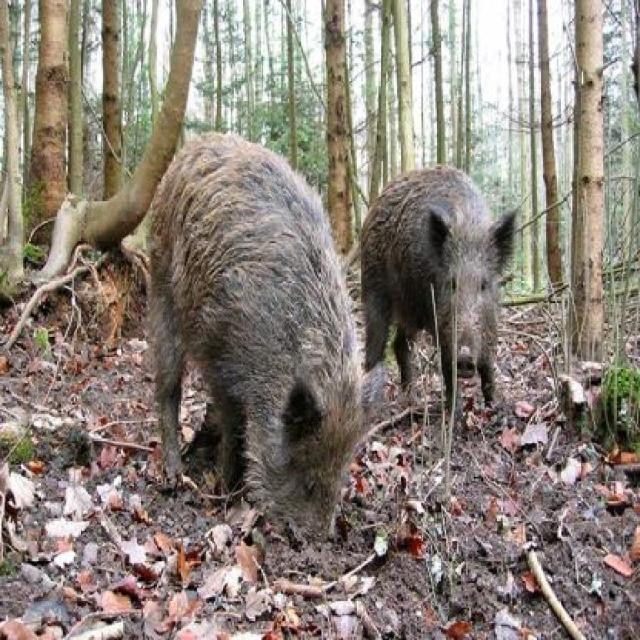wildboar: (139, 122, 393, 546), (356, 156, 524, 442)
